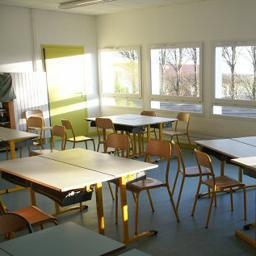Puerta: (40, 46, 87, 135)
Ventana: (153, 53, 205, 112), (217, 49, 255, 114), (103, 52, 143, 105)
